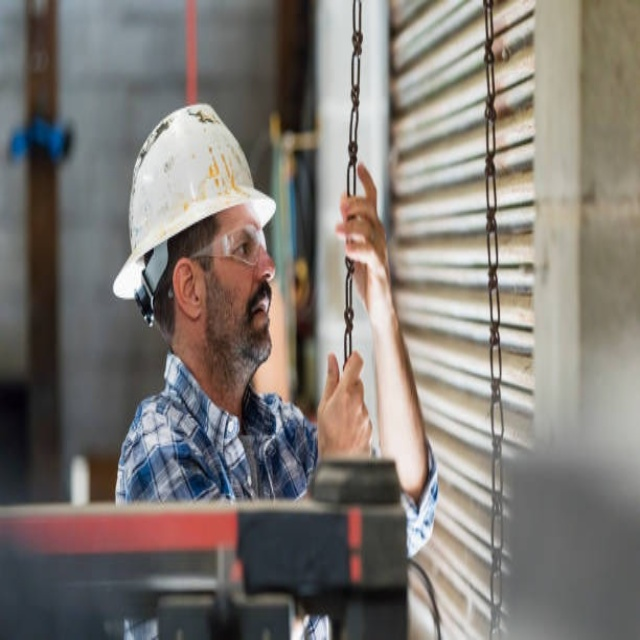Gafas: (184, 224, 270, 267)
Sin_guantes: (335, 157, 393, 310), (316, 347, 372, 457)
Sin_mascara: (235, 282, 277, 354)
